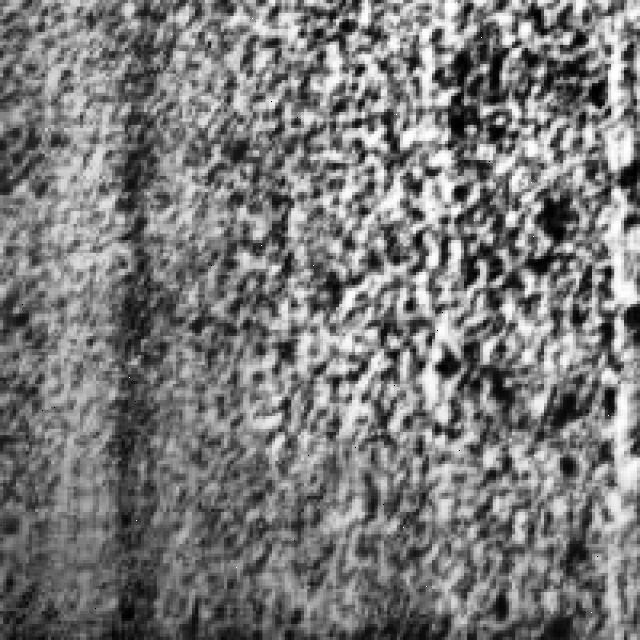Rolled_in_Scale: (202, 0, 634, 589)
